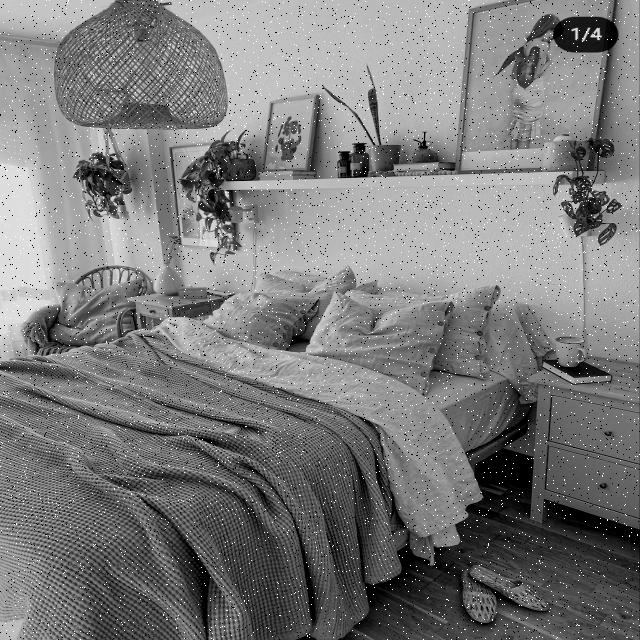bed: (0, 275, 539, 612)
